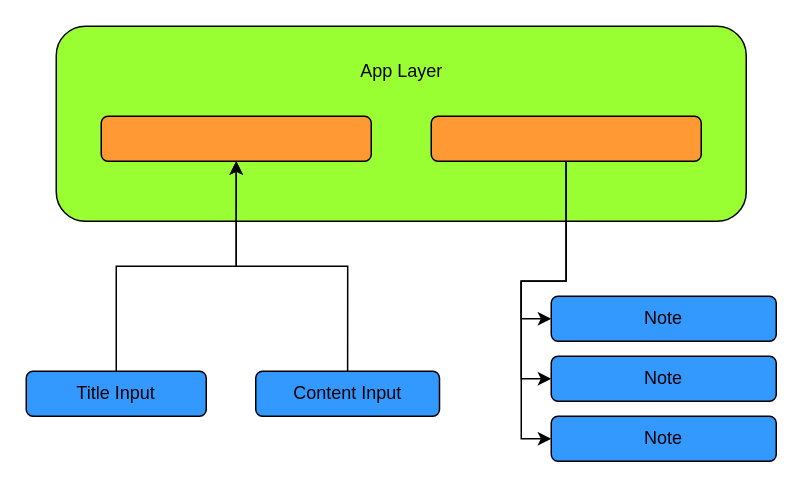
The diagram is 803 pixels wide and 488 high, and some of its shapes have lost their labels. Here are the shapes that lost their labels. From the top down, the box of each, then its label:
(100, 115, 371, 161): NotesForm
(430, 115, 701, 161): Notebook
